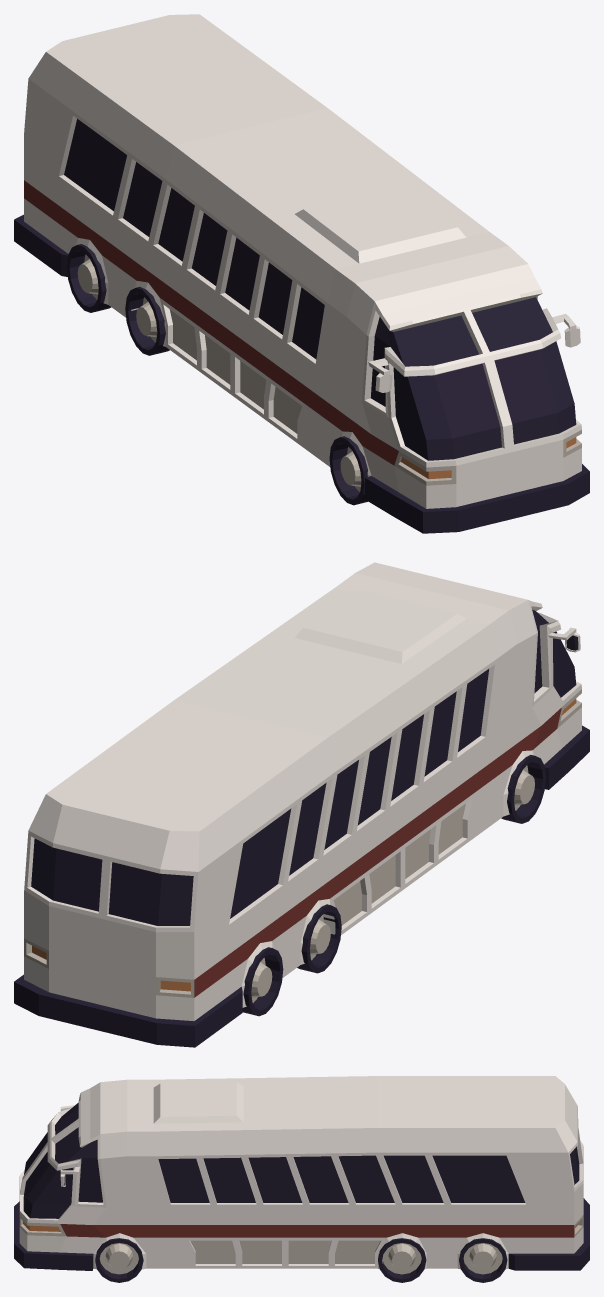
File: bus 1.fbx
The picture shows the model from 3 angles, top to bottom: view 1: azimuth 30°, elevation 25°; view 2: azimuth 150°, elevation 25°; view 3: azimuth 270°, elevation 25°; orthographic projection. The views are drawn at different scales.
Visible parts, largest first — view 1: car 16; view 2: car 16; view 3: car 16.
Boxes of the visible parts, x1,y1,x2,y2 form: car 16: [14, 14, 589, 533]; car 16: [14, 562, 589, 1047]; car 16: [14, 1076, 589, 1282].
Bounding box in the file's own units: 250 × 259 × 881.
